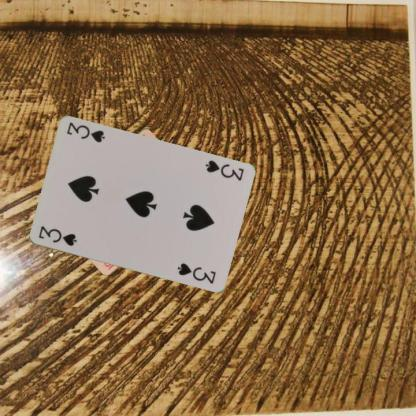3s: (36, 223, 78, 248), (202, 158, 245, 182)
